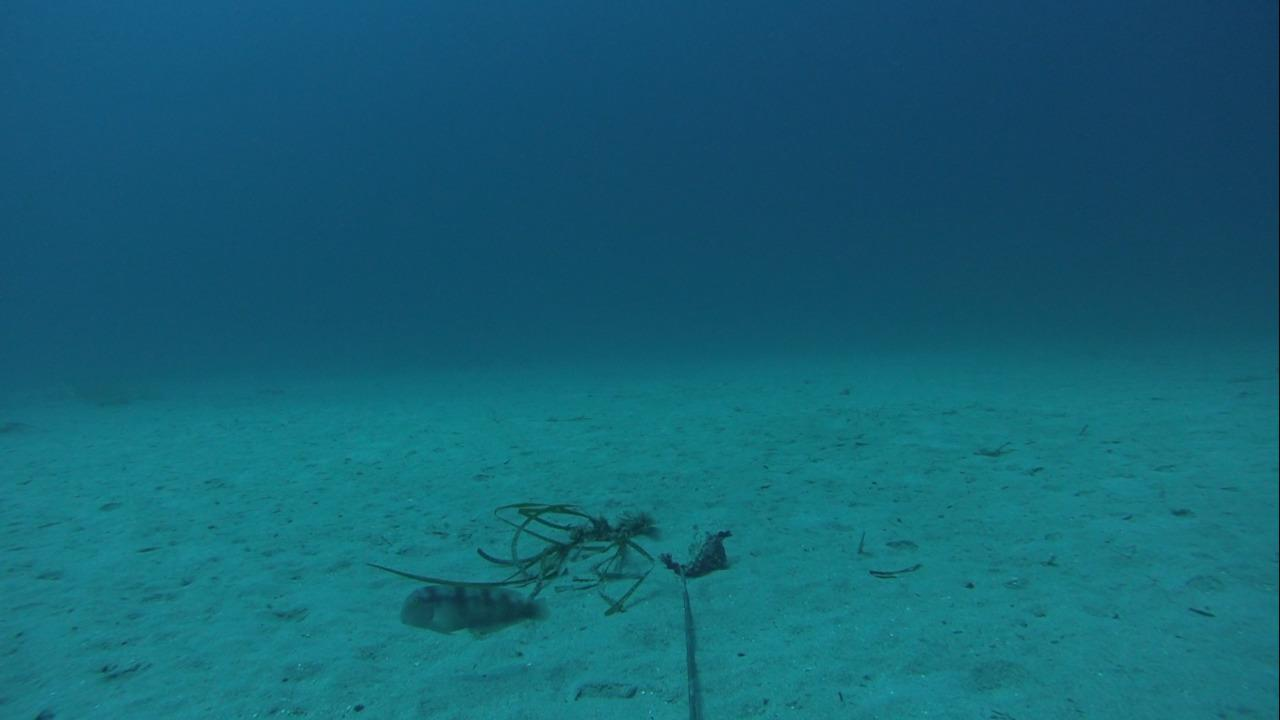raor: (397, 579, 552, 634)
